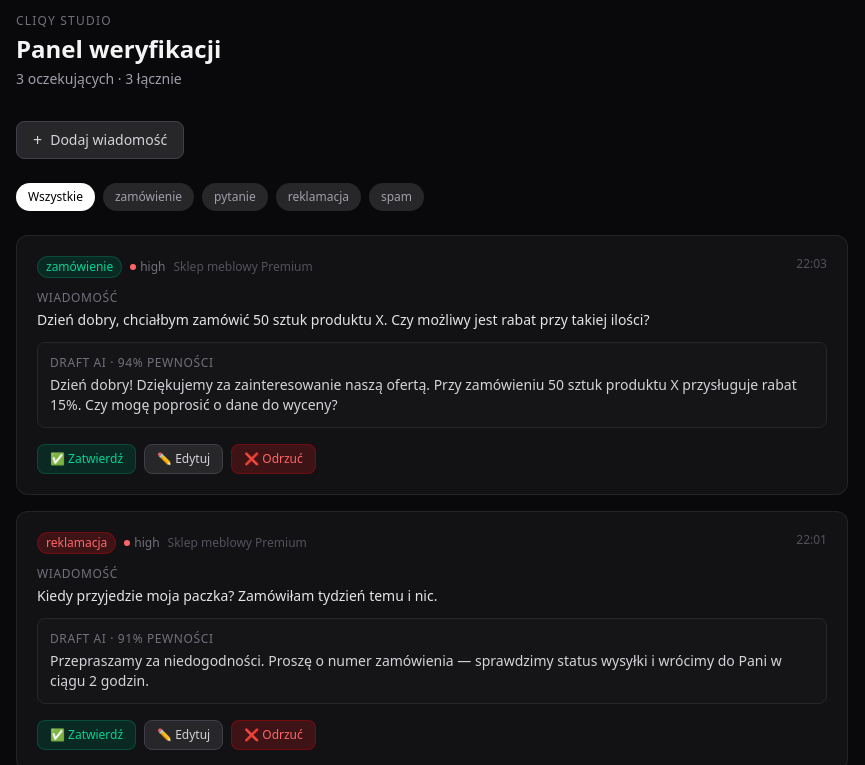
Test case: QueuePage › edit mode › updates draft_reply and exits edit mode on Zapisz
The image size is (865, 765).
Click the button "✏️ Edytuj" below "94": (184, 459) [144,444,223,474]
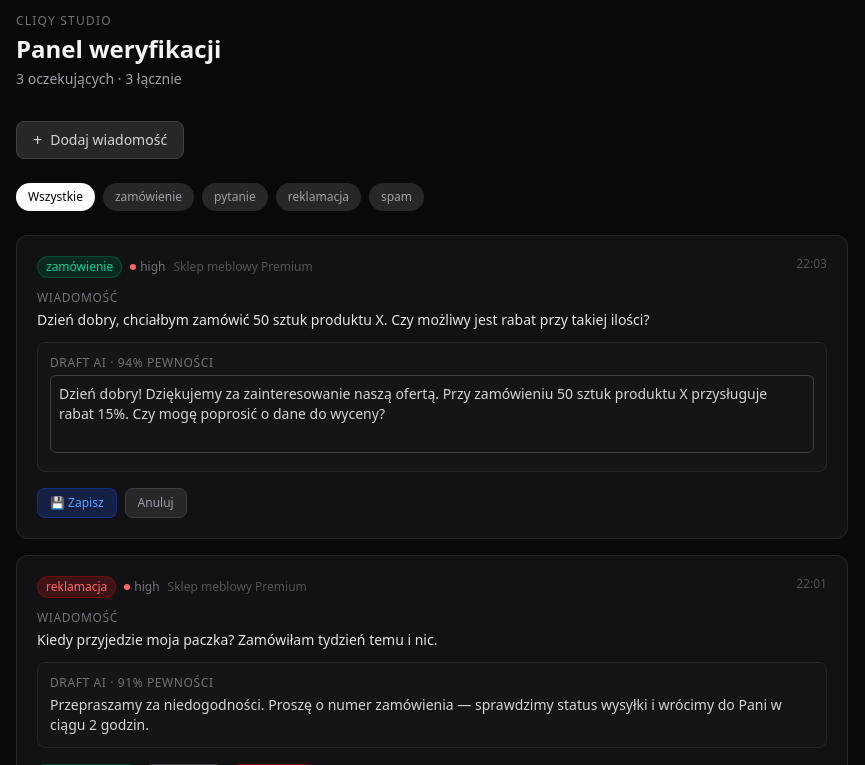
Replace the text in the text box with "Nowy szkic odpowiedzi.": (432, 414) [50,375,814,453]
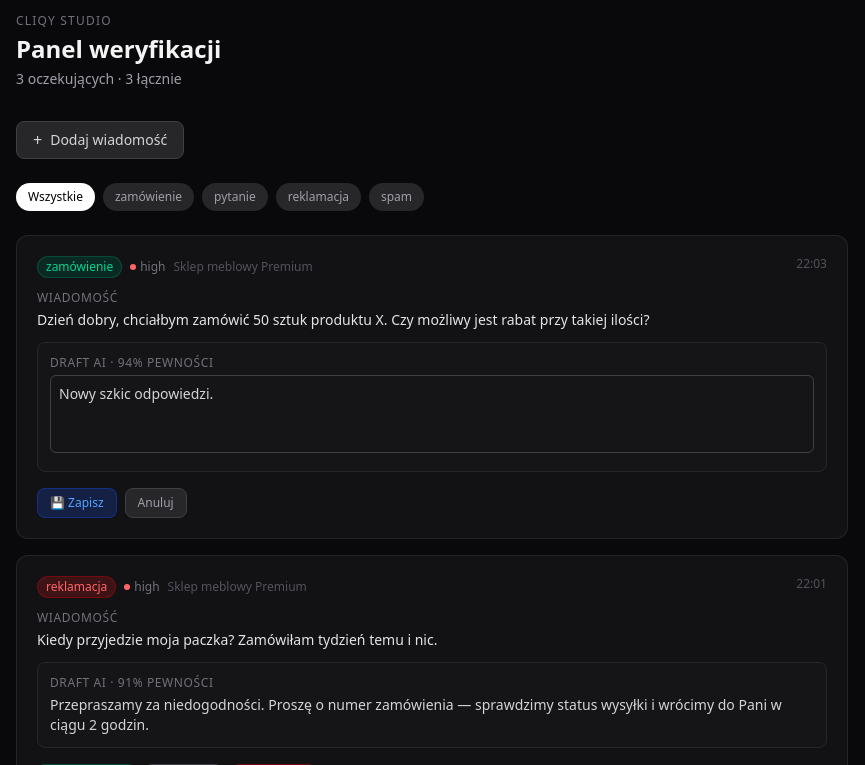
Click the button "💾 Zapisz": (77, 503) [37,488,117,518]
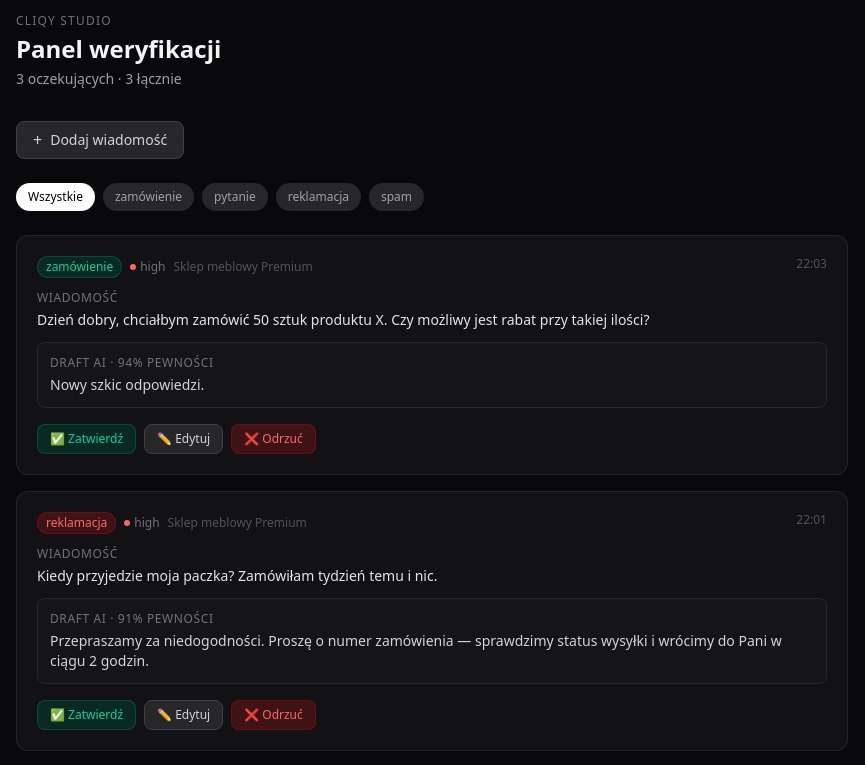
Expected: the text "Nowy szkic odpowiedzi." is shown, [50,375,204,394]
